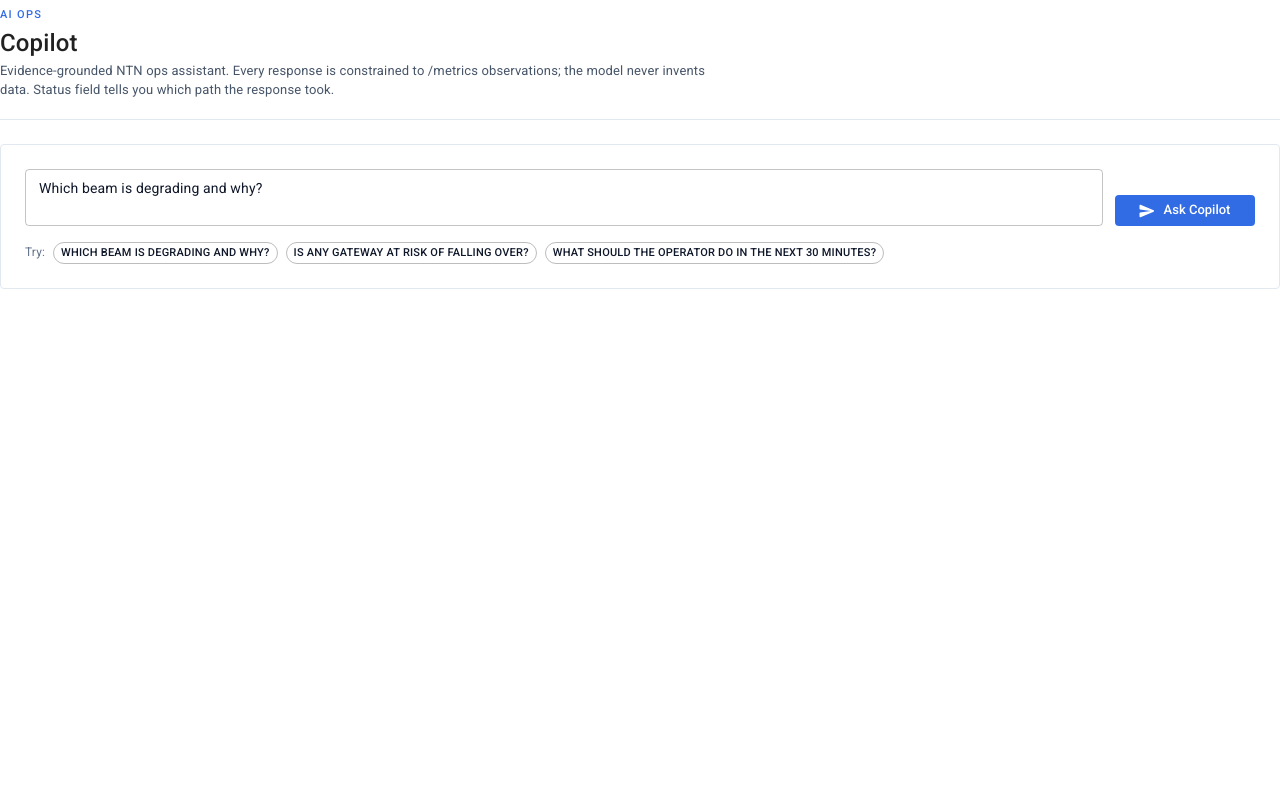
Test: Copilot — H.1.4 risk_if_ignored + evidence metadata › renders all 4 evidence-metadata fields in the footer
This screenshot has width=1280, height=800.
Click the button "Ask Copilot" at point(1185, 211), box 1115,196 -> 1255,226
(page scrolled)
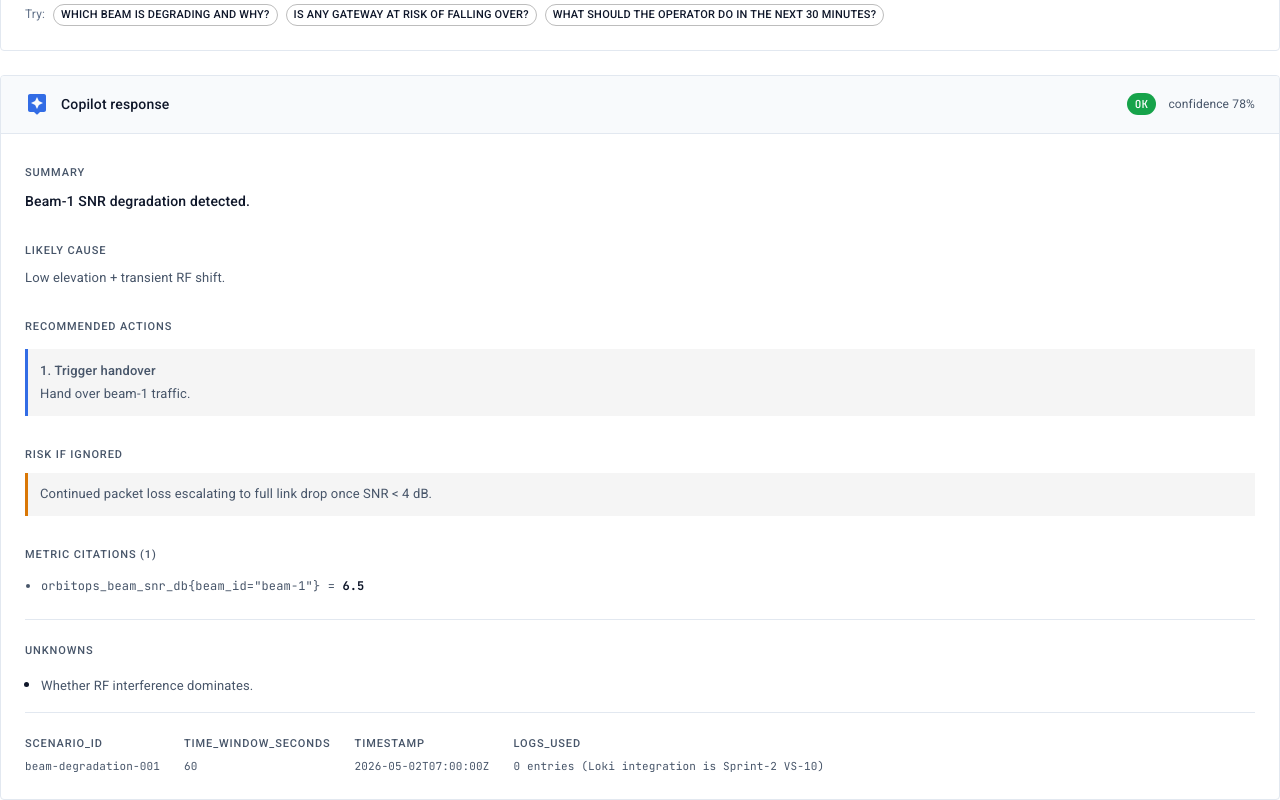
Now the text "beam-degradation-001" is shown, box 25,758 -> 160,775
Now the text "60" is shown, box 184,759 -> 198,773
Now the text "2026-05-02T07:00:00Z" is shown, box 355,758 -> 490,775
